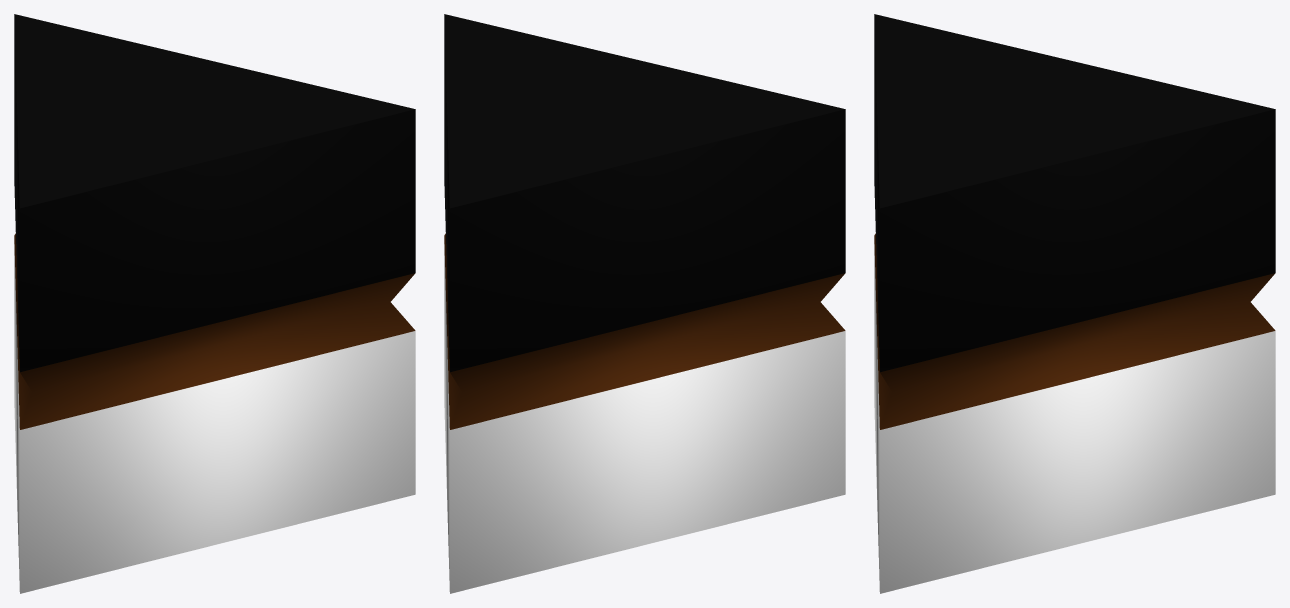
File: Mesh_TriangleHorse.fbx
3 renders of one model, left to right at view 1: azimuth 30°, elevation 25°; view 2: azimuth 150°, elevation 25°; view 3: azimuth 270°, elevation 25°, orthographic.
Parts seen in each view (by area): view 1: Cylinder005; view 2: Cylinder005; view 3: Cylinder005.
Part boxes in pixels (box(x1,y1,x2,y2)): Cylinder005: box(14, 14, 415, 593); Cylinder005: box(444, 14, 845, 593); Cylinder005: box(874, 14, 1275, 593).
Size of the model in its own units: 17.32 by 16 by 15.1.
